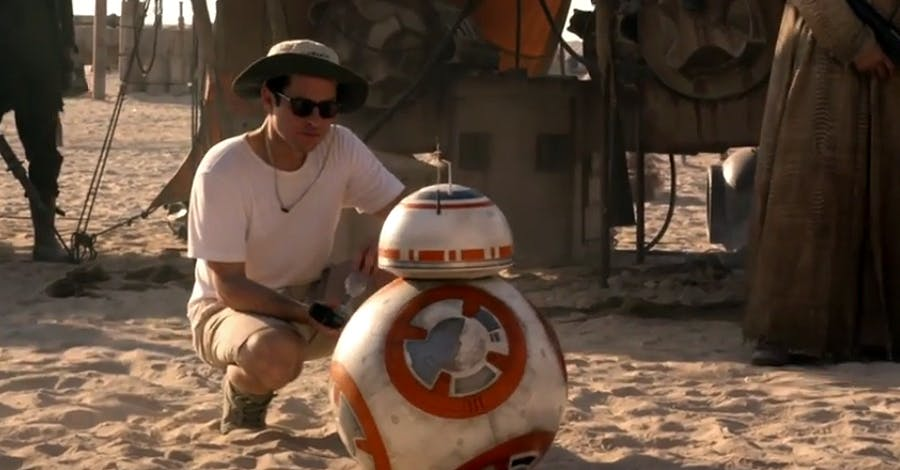bb8: (329, 183, 568, 470)
